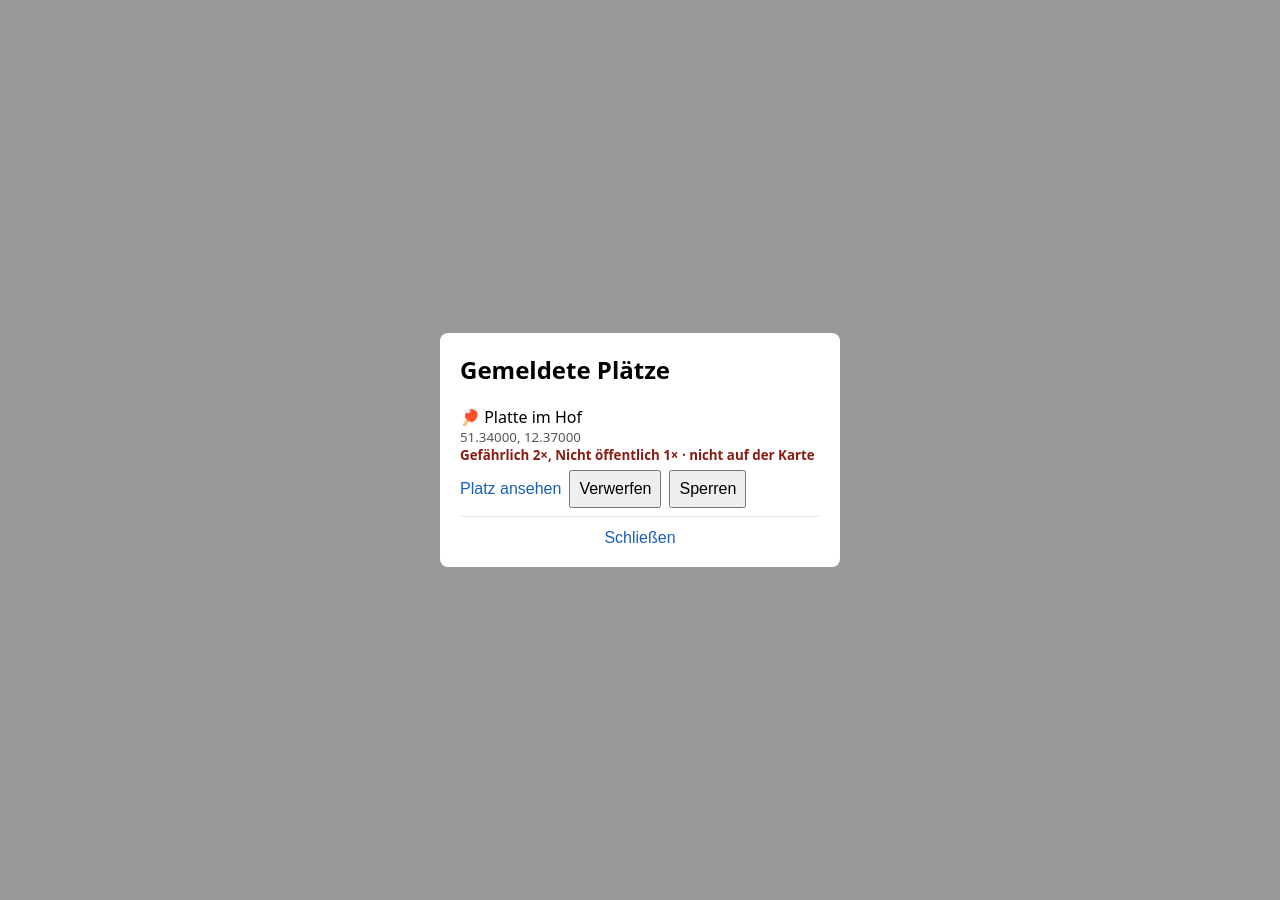
ReportedPlacesDialog › locks only after the second step
Click the button "Sperren": (708,489) x1=670 y1=470 x2=746 y2=508
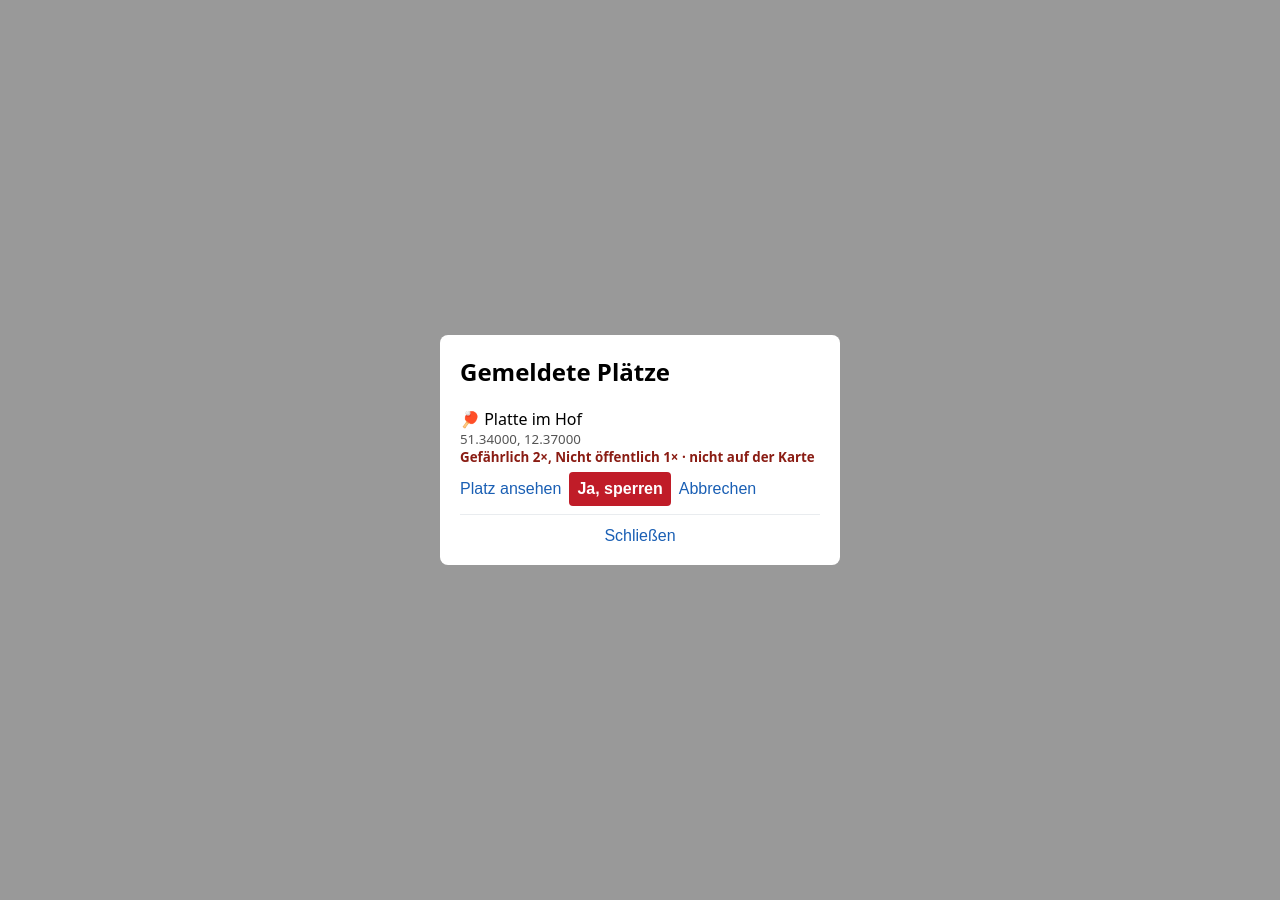
Click the button "Ja, sperren": (620,489) x1=569 y1=472 x2=671 y2=506
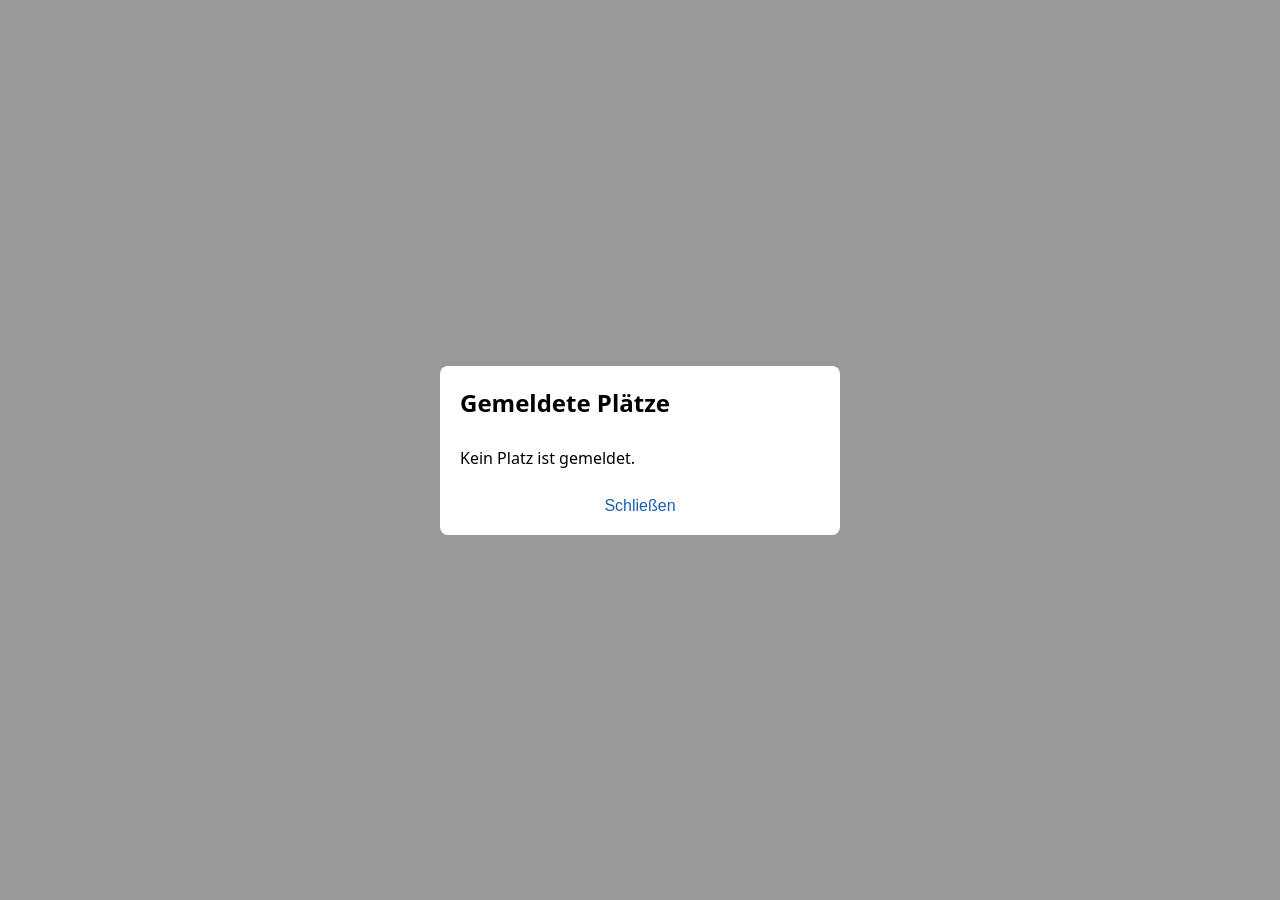
Result: the text "Kein Platz ist gemeldet." is shown at x1=460 y1=446 x2=635 y2=468
